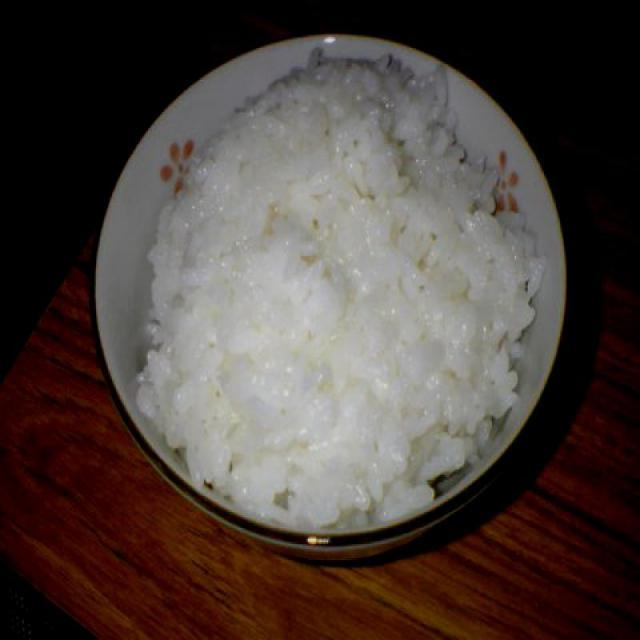rice: (134, 55, 537, 526)
